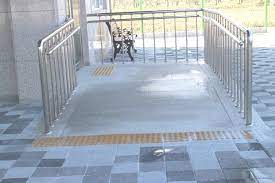guide_blocks: (33, 128, 253, 145), (92, 64, 114, 75)
